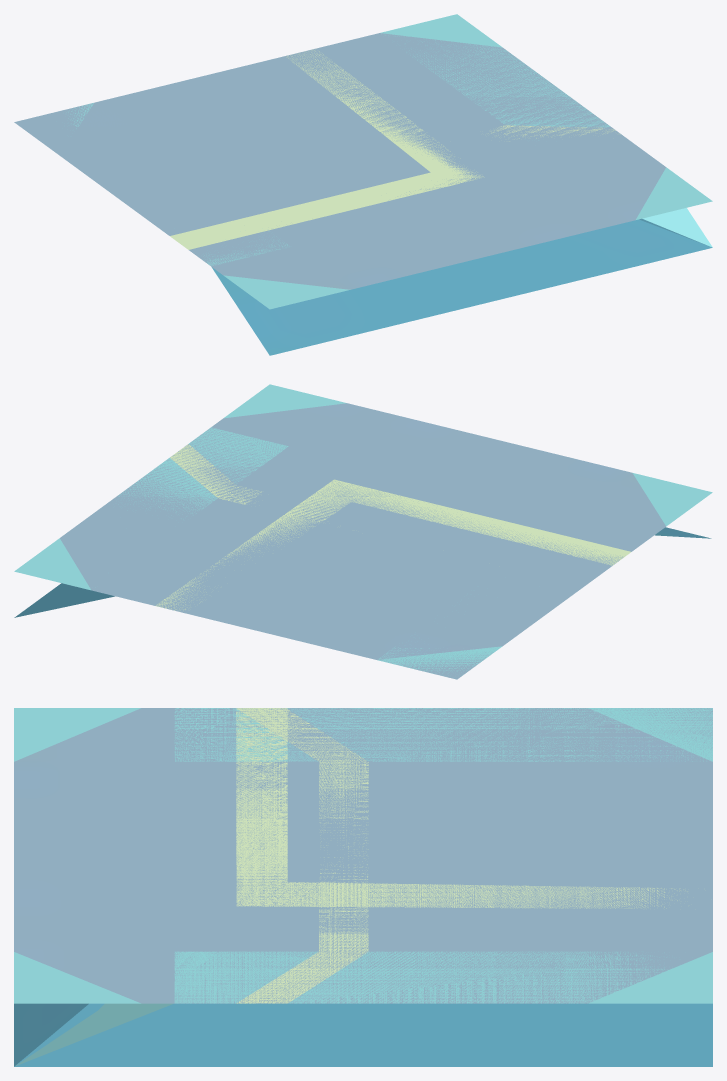
File: platforms_tiles.glb
The picture shows the model from 3 angles, top to bottom: view 1: azimuth 30°, elevation 25°; view 2: azimuth 150°, elevation 25°; view 3: azimuth 270°, elevation 25°; orthographic projection. The views are drawn at different scales.
Visible parts, largest first — view 1: platform_angle, platform_middle, platform_edge; view 2: platform_middle, platform_angle, platform_edge; view 3: platform_middle, platform_angle, platform_edge.
Boxes of the visible parts, x1,y1,x2,y2 form: platform_angle: [14, 39, 712, 355]; platform_middle: [66, 14, 712, 309]; platform_edge: [202, 14, 712, 266]; platform_middle: [15, 384, 712, 676]; platform_angle: [14, 453, 711, 679]; platform_edge: [14, 427, 488, 672]; platform_middle: [14, 708, 712, 1003]; platform_angle: [14, 708, 712, 1066]; platform_edge: [15, 708, 712, 1066].
Size of the model in its own units: 1 by 0.1 by 1.
1 material, 1 textured.
